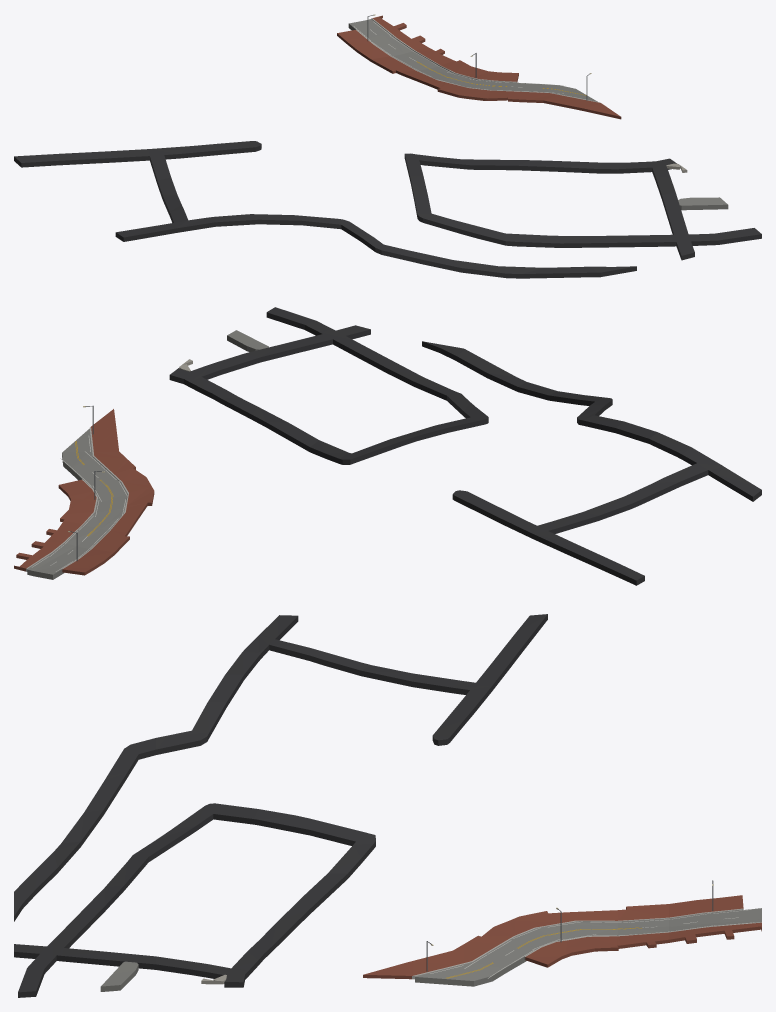
3 views of the same model, one above another, from view 1: azimuth 30°, elevation 25°; view 2: azimuth 150°, elevation 25°; view 3: azimuth 270°, elevation 25° (orthographic). The views are drawn at different scales.
Size of the model in its own units: 147 by 16.07 by 146.
